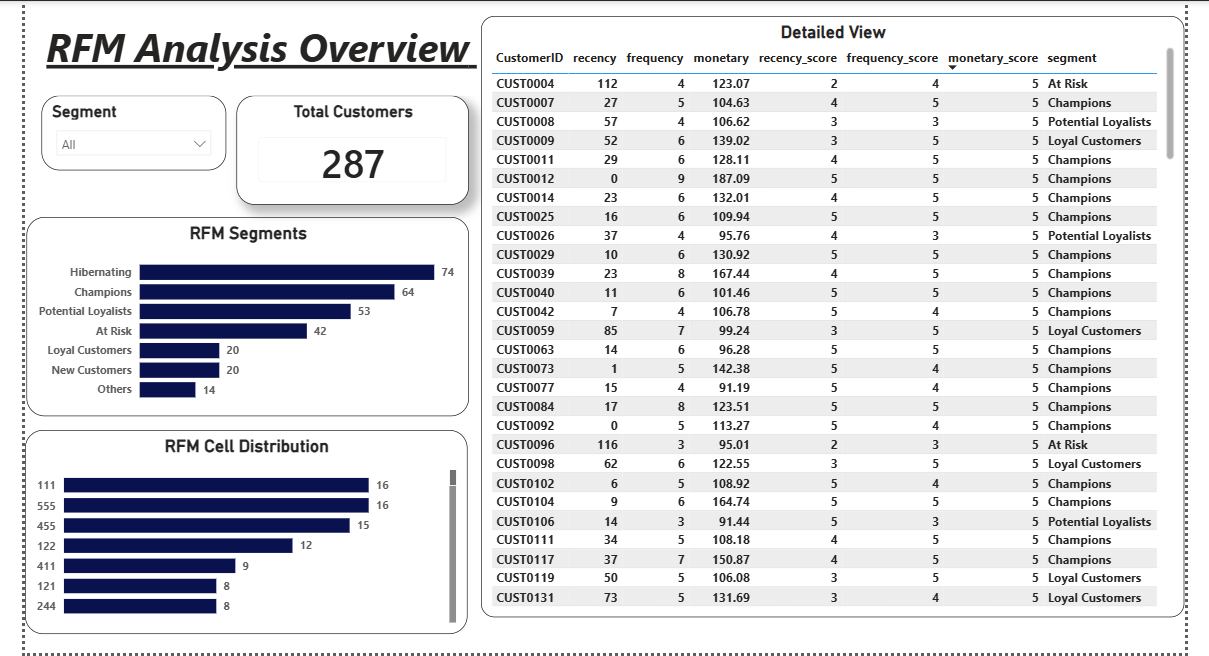

Layout of this report page (visuals, bound fields, positions):
{"tool":"powerbi","page":{"name":"Report","canvas":[1280,720],"ordinal":0},"visuals":[{"type":"clusteredBarChart","title":"RFM Segments","fields":{"Category":["rfm_segments_final.segment"],"Y":["CountNonNull(rfm_segments_final.CustomerID)"]},"box":[1.7,238.5,488.7,220.3],"z":0},{"type":"cardVisual","title":"Total Customers","fields":{"Data":["rfm_segments_final.Total_Customers"]},"box":[233.6,104.4,256.8,120.9],"z":1000},{"type":"tableEx","title":"Detailed View","fields":{"Values":["rfm_segments_final.CustomerID","rfm_segments_final.recency","rfm_segments_final.frequency","rfm_segments_final.monetary","rfm_segments_final.recency_score","rfm_segments_final.frequency_score","rfm_segments_final.monetary_score","rfm_segments_final.segment"]},"box":[503.6,16.6,776.9,664.2],"z":2000},{"type":"slicer","title":"Segment","fields":{"Values":["rfm_segments_final.segment"]},"box":[18.2,104.4,203.7,82.8],"z":3000},{"type":"textbox","box":[18.2,16.6,485.3,87.8],"z":4000},{"type":"clusteredBarChart","title":"RFM Cell Distribution","fields":{"Category":["rfm_segments_final.rfm_cell"],"Y":["CountNonNull(rfm_segments_final.CustomerID)"]},"box":[0,473.8,488.7,225.3],"z":5000}]}

Visuals, with their boxes on the page's 1280x720 design canvas (x1, y1, x2, y2). These are canvas units, not pixel positions in the 1209x656 screenshot, which may show the page scaled, cropped or inside an application window:
"RFM Segments" clusteredBarChart: BBox(2, 238, 490, 459)
"Total Customers" cardVisual: BBox(234, 104, 490, 225)
"Detailed View" tableEx: BBox(504, 17, 1280, 681)
"Segment" slicer: BBox(18, 104, 222, 187)
textbox: BBox(18, 17, 504, 104)
"RFM Cell Distribution" clusteredBarChart: BBox(0, 474, 489, 699)
